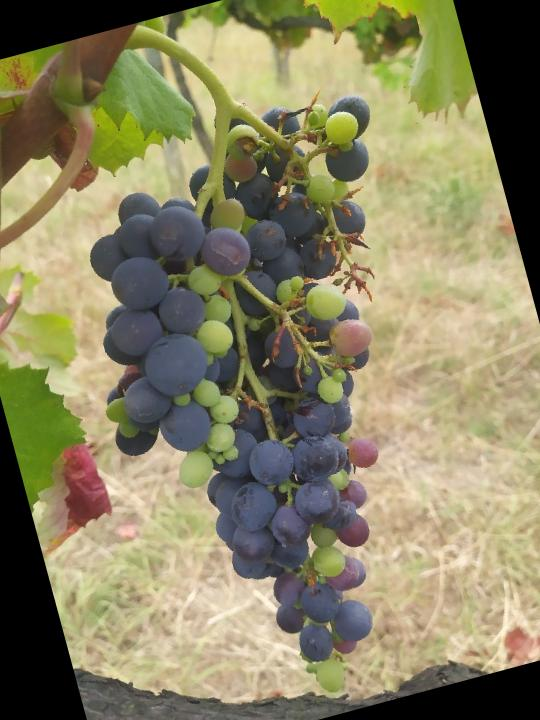grape: (37, 84, 516, 720)
